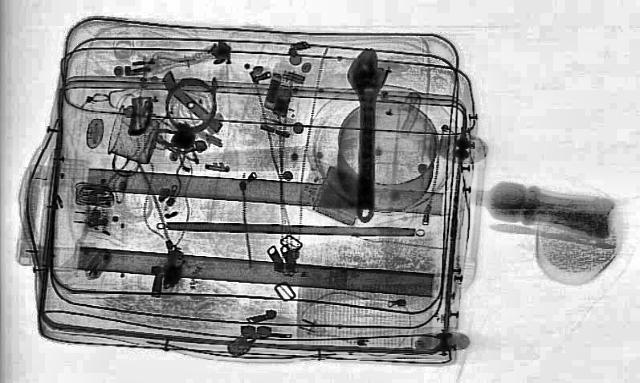Wrench: (342, 47, 390, 222)
